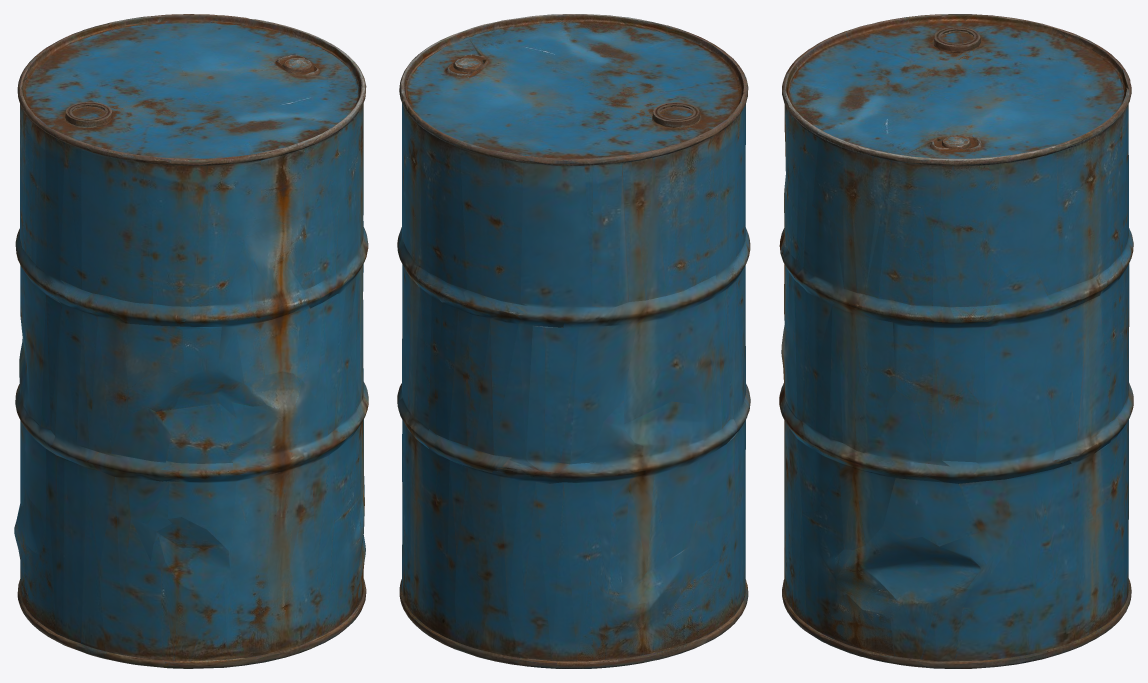
The model's file is oil_drum.glb.
3 views of the same model, side by side, from view 1: azimuth 30°, elevation 25°; view 2: azimuth 150°, elevation 25°; view 3: azimuth 270°, elevation 25° (orthographic).
Parts seen in each view (by area): view 1: Placed; view 2: Placed; view 3: Placed.
Boxes of the visible parts, x1=… form: Placed: x1=14, y1=14, x2=368, y2=668; Placed: x1=397, y1=14, x2=750, y2=668; Placed: x1=779, y1=14, x2=1133, y2=668.
Size of the model in its own units: 0.5541 by 0.88 by 0.5549.
1 material, 1 textured.
